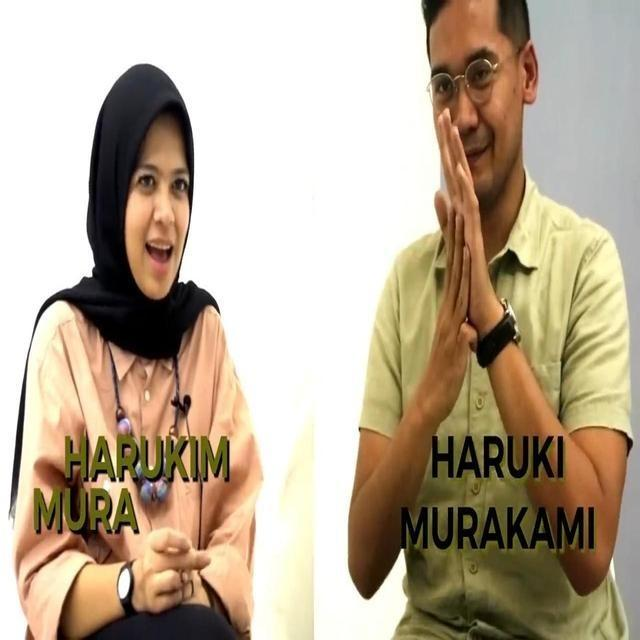M: (412, 106, 502, 367)
